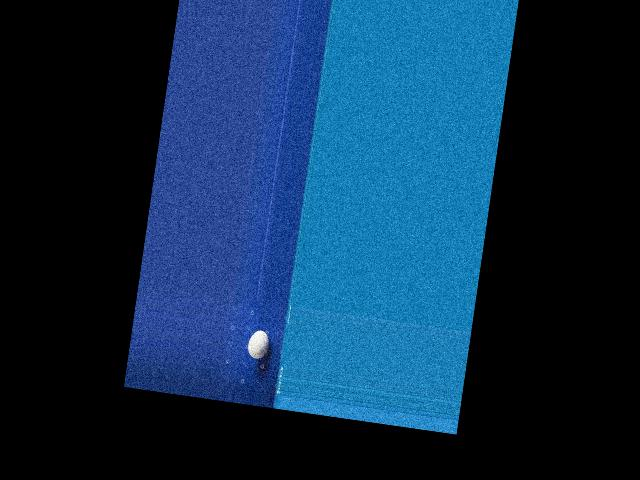egg: (247, 328, 271, 360)
